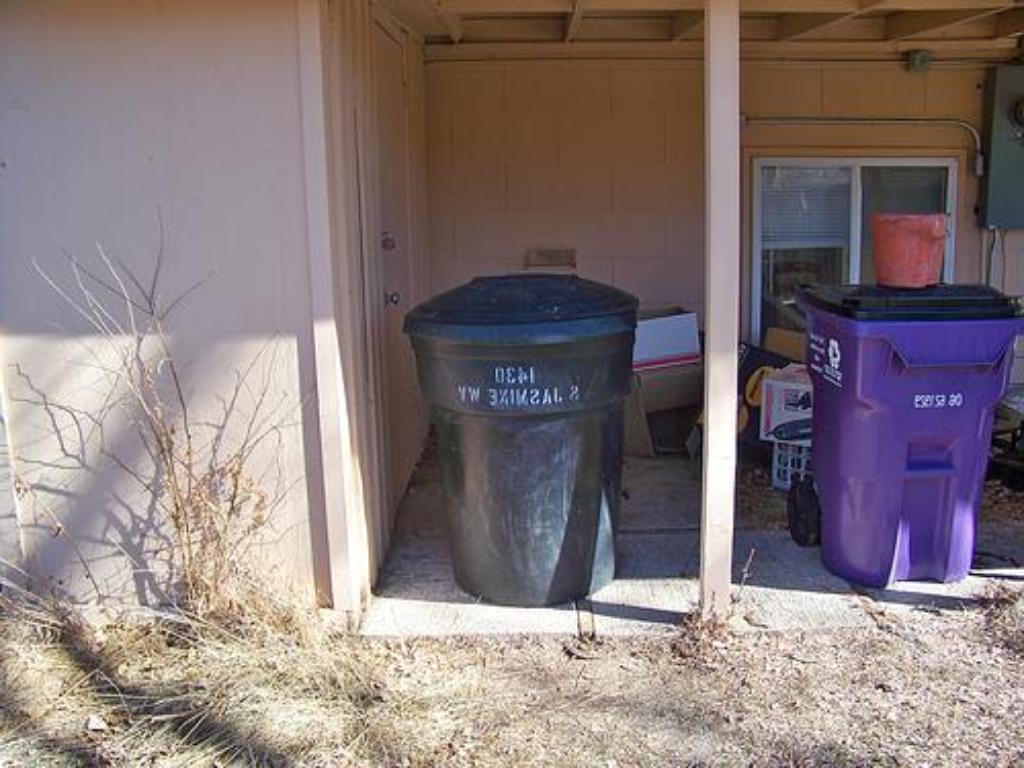dustbin: (790, 272, 1008, 615)
